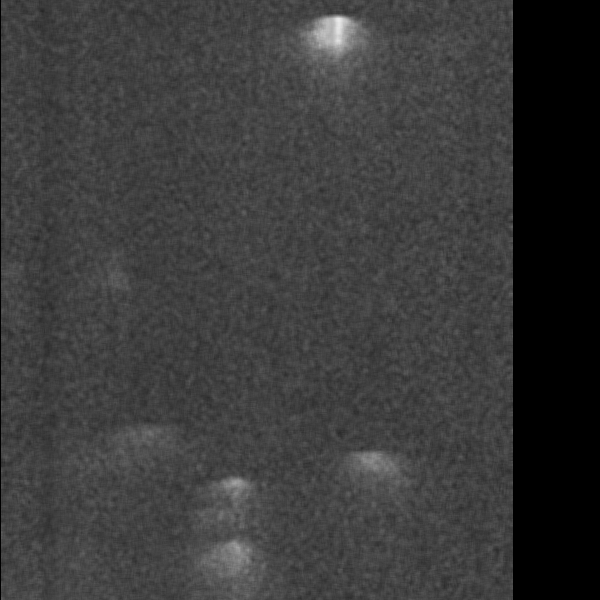spark: (50, 480, 138, 548)
